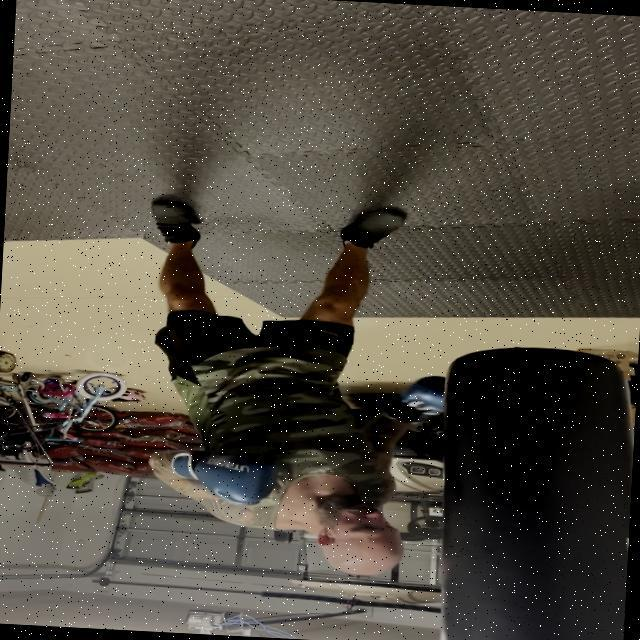bag: (432, 338, 639, 640)
uppercut: (135, 352, 502, 578)
